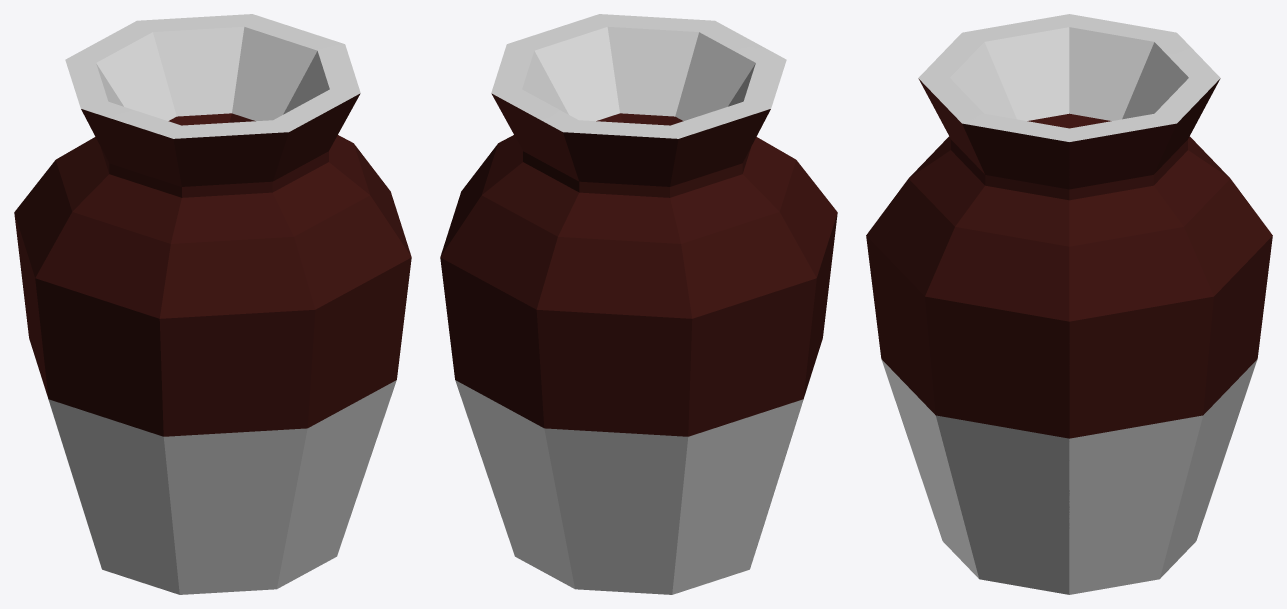
The model's file is Vase.fbx.
3 views of the same model, side by side, from view 1: azimuth 30°, elevation 25°; view 2: azimuth 150°, elevation 25°; view 3: azimuth 270°, elevation 25° (orthographic).
Parts seen in each view (by area): view 1: serveware, serveware_cell.003, serveware_cell.001, serveware_cell.005, serveware_cell.002, serveware_cell.004, serveware_cell.006; view 2: serveware, serveware_cell.003, serveware_cell.005, serveware_cell.001, serveware_cell.002, serveware_cell, serveware_cell.006; view 3: serveware, serveware_cell.002, serveware_cell.003, serveware_cell.005, serveware_cell.
Boxes of the visible parts, x1,y1,x2,y2 form: serveware: (14,14,411,590); serveware_cell.003: (14,137,345,590); serveware_cell.001: (37,302,255,594); serveware_cell.005: (46,64,356,390); serveware_cell.002: (267,40,399,528); serveware_cell.004: (219,200,340,315); serveware_cell.006: (248,85,360,134); serveware: (440,19,837,594); serveware_cell.003: (440,93,828,470); serveware_cell.005: (559,19,802,256); serveware_cell.001: (663,299,814,571); serveware_cell.002: (456,20,606,207); serveware_cell: (518,428,675,568); serveware_cell.006: (585,14,742,38); serveware: (866,14,1272,594); serveware_cell.002: (898,127,1139,553); serveware_cell.003: (909,78,1272,565); serveware_cell.005: (926,14,1069,185); serveware_cell: (962,368,1254,594).
Size of the model in its own units: 0.9404 by 1.18 by 0.9378.
